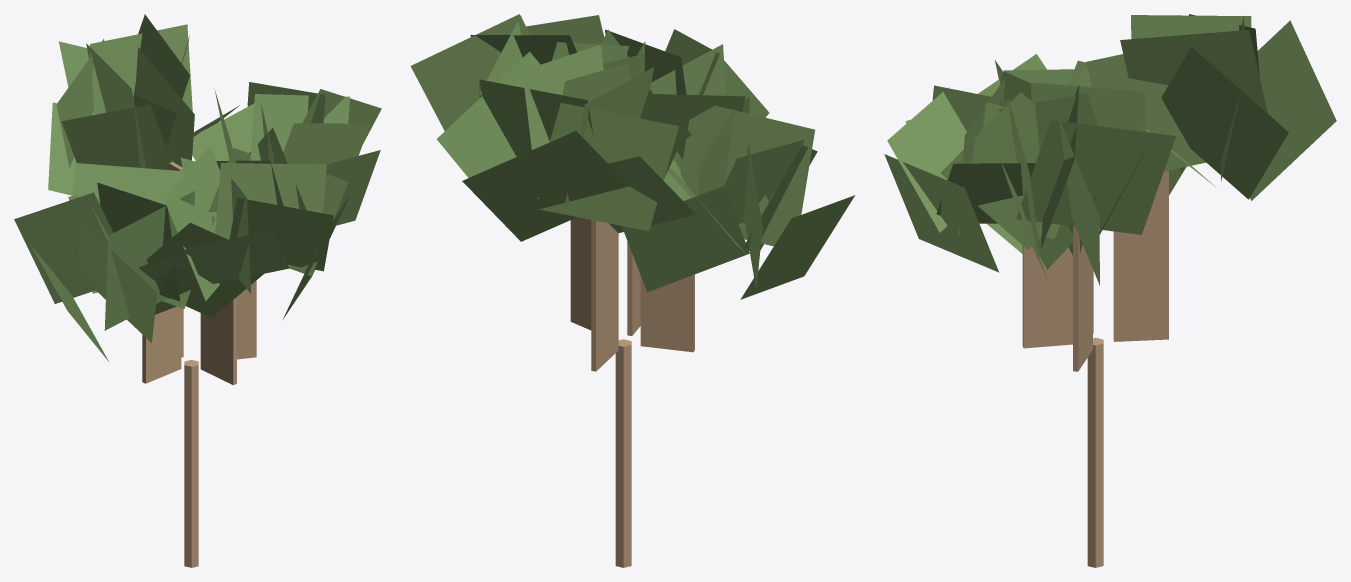
File: Young_Tree.fbx
3 views of the same model, side by side, from view 1: azimuth 30°, elevation 25°; view 2: azimuth 150°, elevation 25°; view 3: azimuth 270°, elevation 25° (orthographic). The views are drawn at different scales.
Parts seen in each view (by area): view 1: Young_Tree; view 2: Young_Tree; view 3: Young_Tree.
Part boxes in pixels (<box>): Young_Tree: <box>14,14,381,567</box>; Young_Tree: <box>410,14,855,567</box>; Young_Tree: <box>884,14,1336,567</box>.
Bounding box in the file's own units: 2.97 × 3.93 × 2.95.
